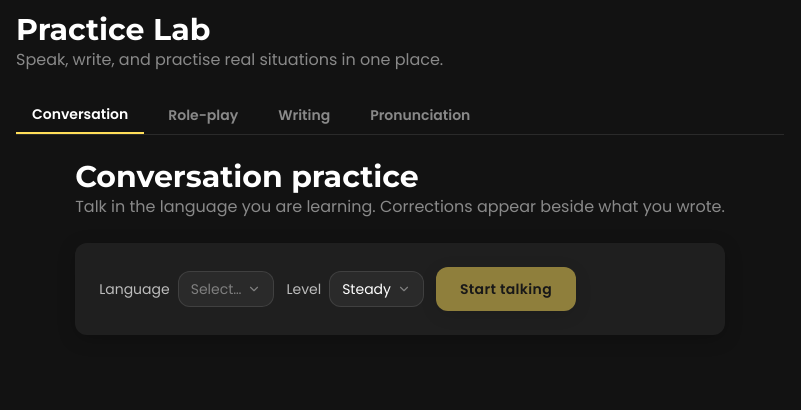
PracticeLabPage › says the pronunciation check reads a transcript, not audio
Click the button "Pronunciation": (420, 115) [354,96,486,134]
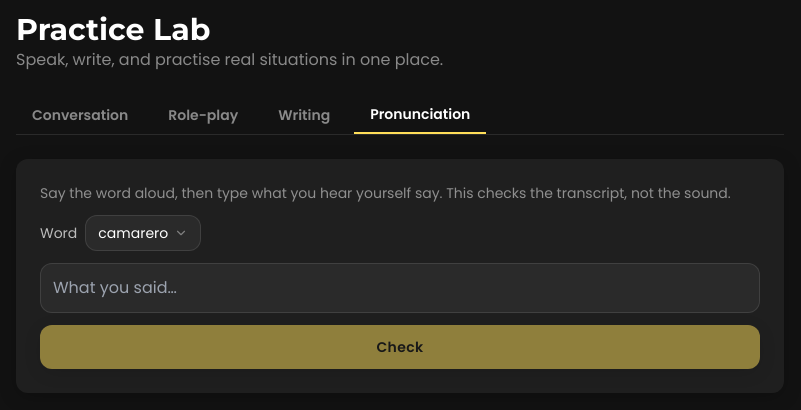
Result: the text "checks the transcript, not the sound" is shown at [40,183,731,203]
